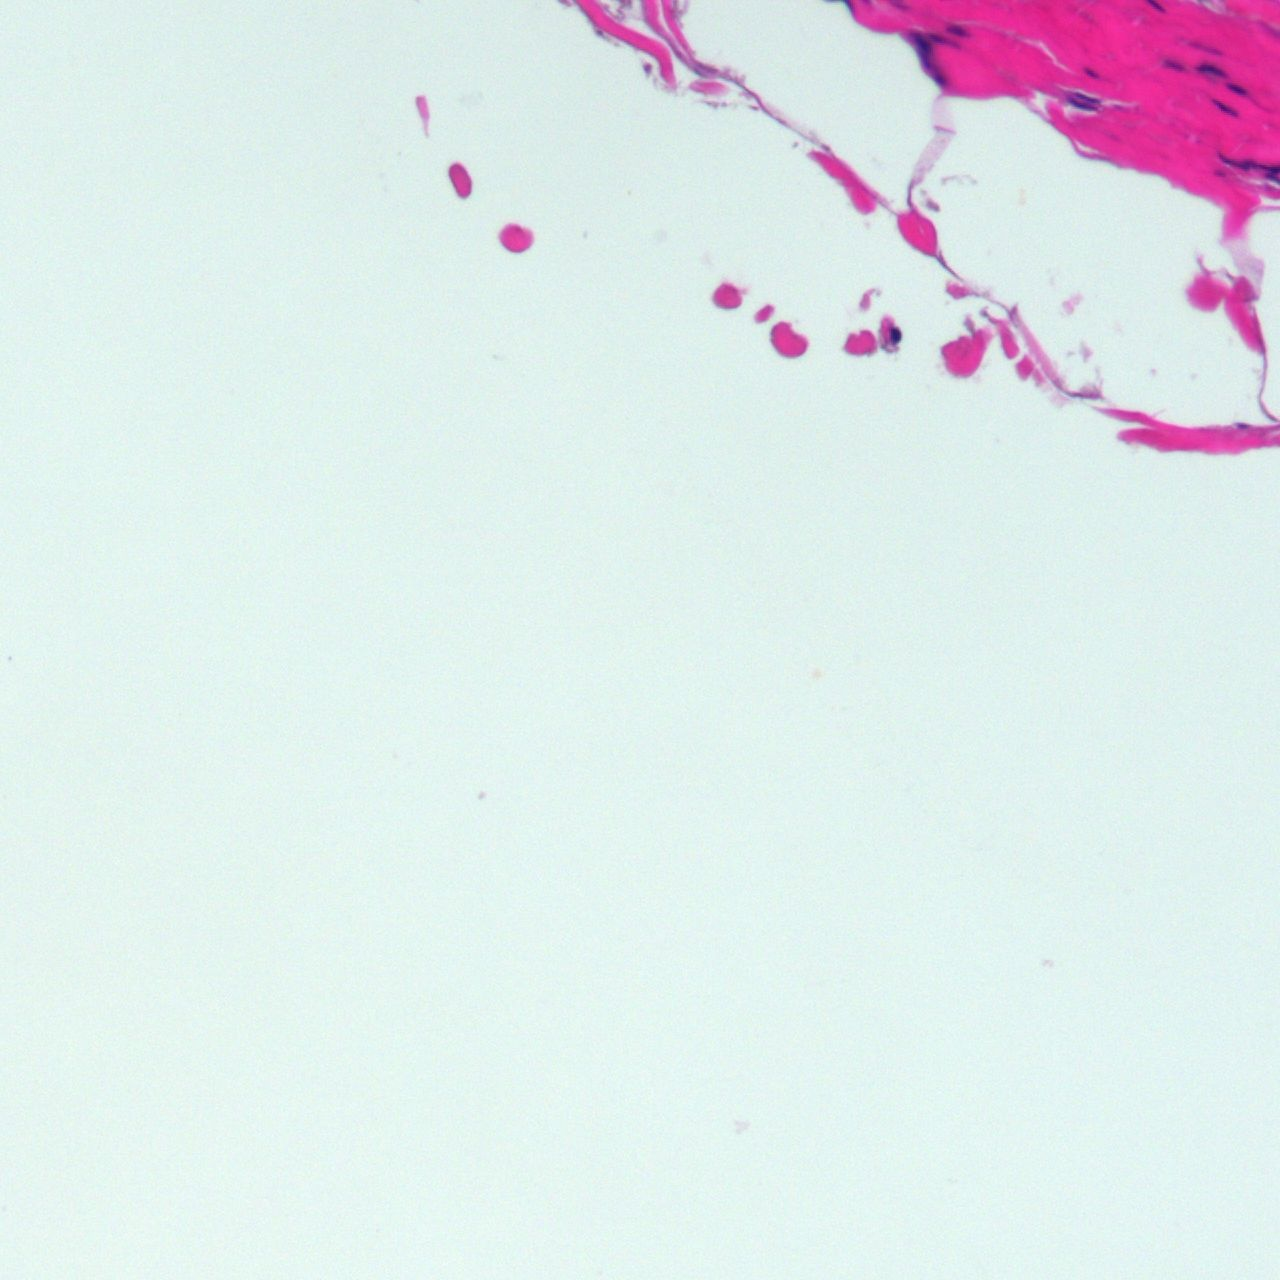dust: (889, 326, 901, 344)
nucleus-HE: (1186, 35, 1225, 60), (1221, 152, 1259, 173), (926, 31, 961, 52), (908, 30, 935, 56), (1064, 95, 1096, 116), (1211, 96, 1238, 120), (1073, 87, 1100, 107), (946, 21, 970, 40), (1163, 56, 1187, 74), (1225, 80, 1246, 98), (1196, 64, 1225, 77), (1081, 65, 1101, 81), (1267, 162, 1280, 185), (934, 74, 946, 88), (1234, 423, 1250, 429)
